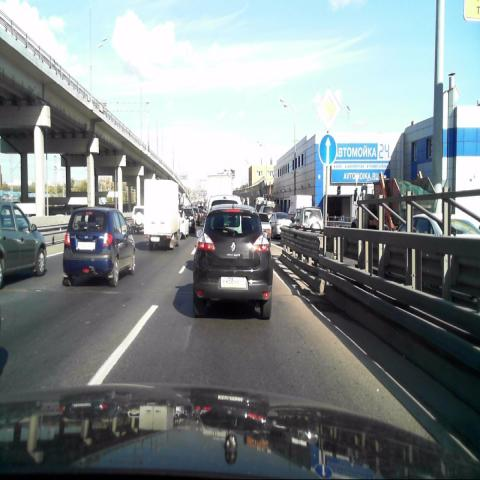4_1_1: (318, 131, 338, 167)
